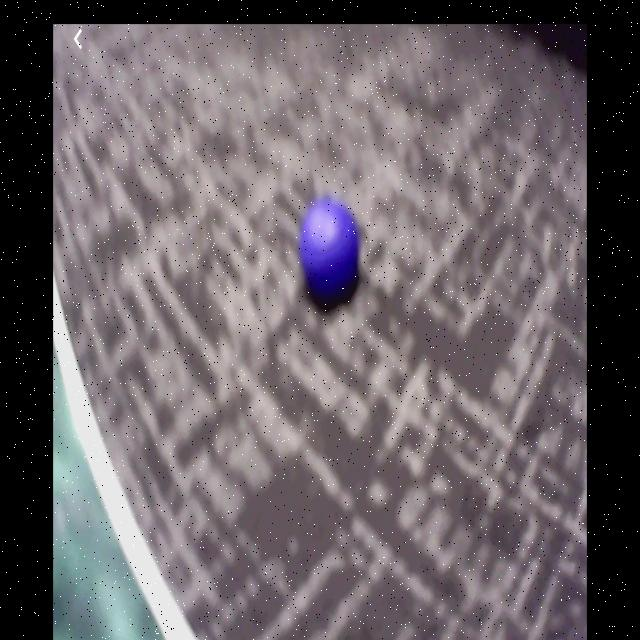ball: (300, 198, 361, 301)
